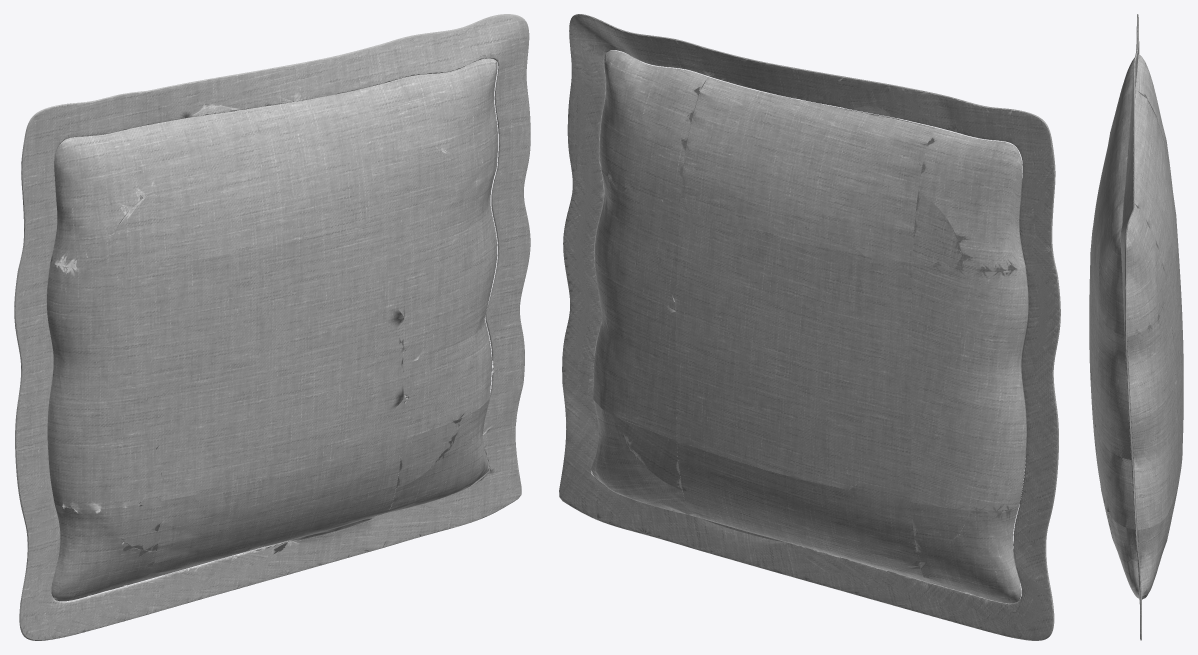
File: almofada.glb
3 views of the same model, side by side, from view 1: azimuth 30°, elevation 25°; view 2: azimuth 150°, elevation 25°; view 3: azimuth 270°, elevation 25° (orthographic). The views are drawn at different scales.
Parts seen in each view (by area): view 1: Group2, Group3; view 2: Group2, Group3; view 3: Group2, Group3.
Part boxes in pixels (x1,y1,x2,y2): Group2: (47, 58, 497, 601); Group3: (14, 14, 530, 640); Group2: (590, 50, 1028, 603); Group3: (559, 14, 1060, 640); Group2: (1089, 54, 1183, 599); Group3: (1120, 14, 1141, 640).
Size of the model in its own units: 1.29 by 1.3 by 0.2455.
4 materials, 1 textured.
